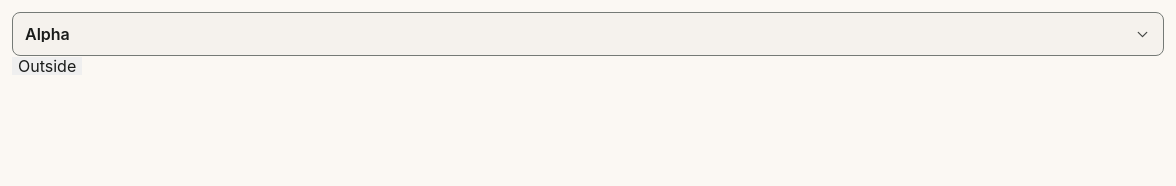
Scenario: shared control keyboard and focus behavior › restores select trigger focus after selecting and closes when tabbing out of the menu
Click the button "Alpha" at x=47, y=34, box top-left (12, 12), bottom-right (1164, 56)
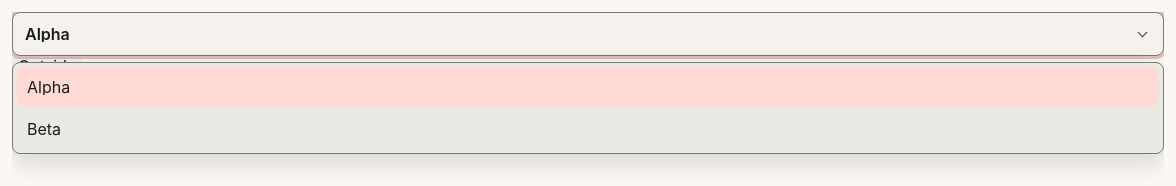
Click the button "Beta" at x=44, y=129, box top-left (17, 109), bottom-right (1159, 149)
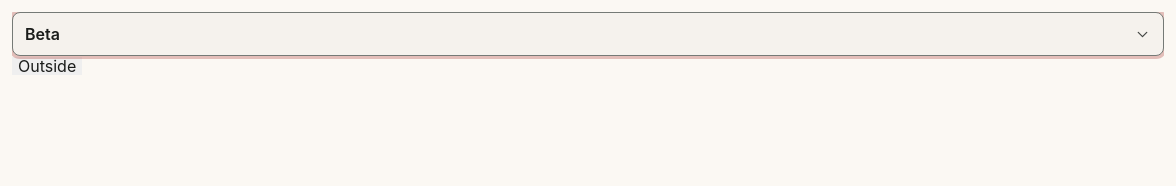
Result: the list is gone
Click the button named "Alpha" at x=42, y=34, box top-left (12, 12), bottom-right (1164, 56)
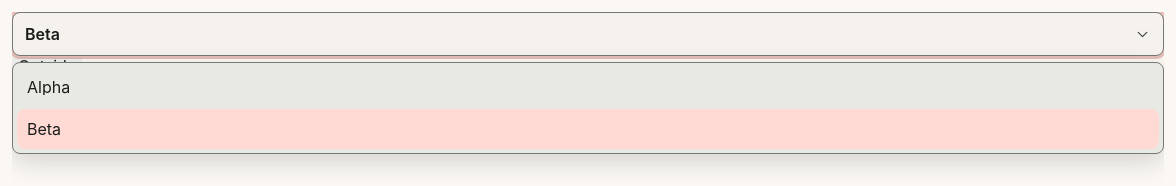
Press Tab
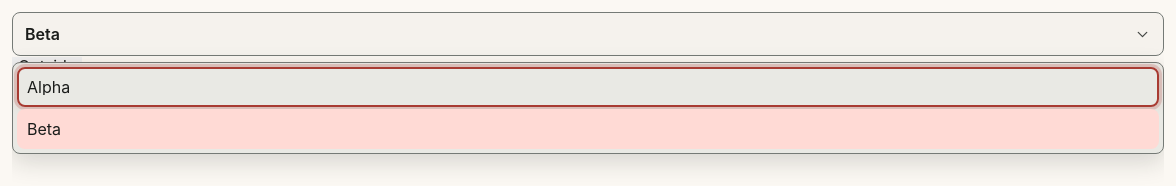
Press Tab
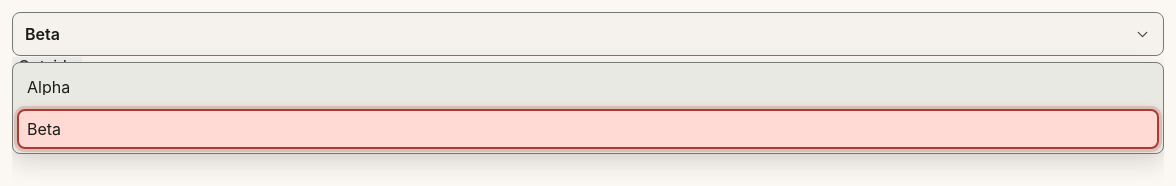
Press Tab
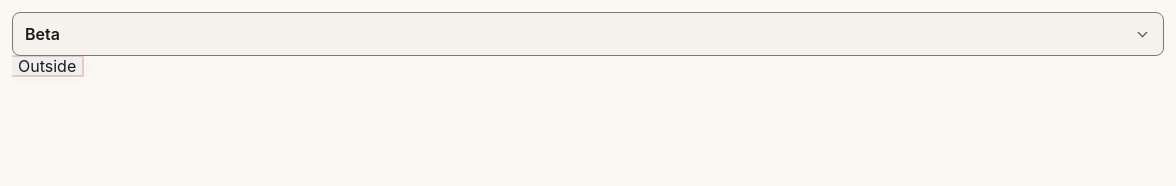
Result: the list is gone
